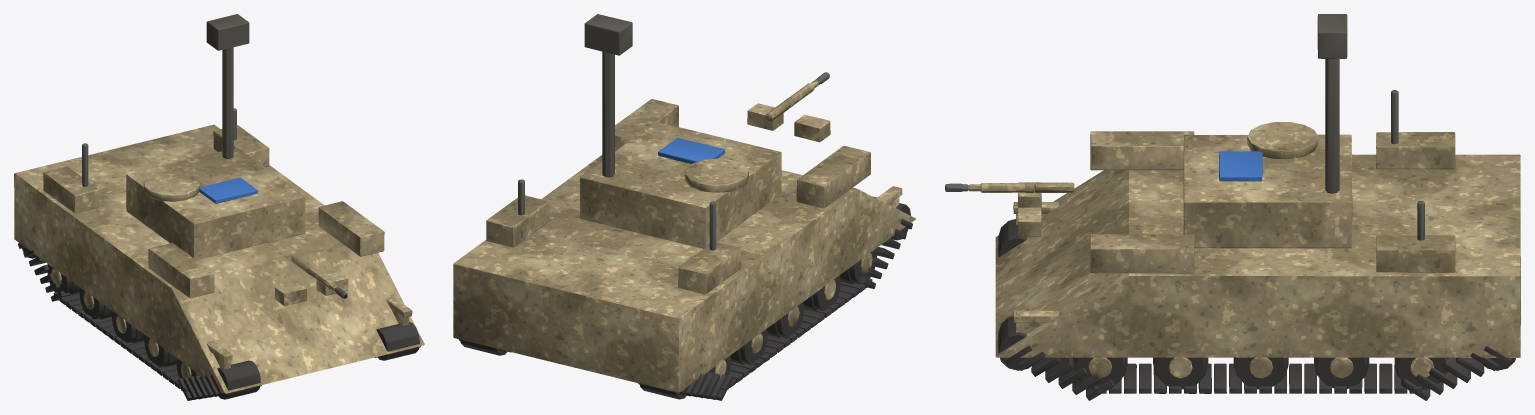
The model's file is rec_e4_us_recon_LOD1.glb.
The picture shows the model from 3 angles, left to right: view 1: azimuth 30°, elevation 25°; view 2: azimuth 150°, elevation 25°; view 3: azimuth 270°, elevation 25°; orthographic projection. The views are drawn at different scales.
Visible parts, largest first — view 1: rec_e4_us_recon_LOD1_body, rec_e4_us_recon_LOD1_track, rec_e4_us_recon_LOD1_deck, rec_e4_us_recon_LOD1_team, rec_e4_us_recon_LOD1_gun; view 2: rec_e4_us_recon_LOD1_body, rec_e4_us_recon_LOD1_track, rec_e4_us_recon_LOD1_deck, rec_e4_us_recon_LOD1_team, rec_e4_us_recon_LOD1_gun; view 3: rec_e4_us_recon_LOD1_body, rec_e4_us_recon_LOD1_track, rec_e4_us_recon_LOD1_deck, rec_e4_us_recon_LOD1_team, rec_e4_us_recon_LOD1_gun.
Part boxes in pixels (x1,y1,x2,y2): rec_e4_us_recon_LOD1_body: [14, 124, 424, 393]; rec_e4_us_recon_LOD1_track: [18, 243, 420, 400]; rec_e4_us_recon_LOD1_deck: [206, 14, 249, 158]; rec_e4_us_recon_LOD1_team: [199, 177, 257, 203]; rec_e4_us_recon_LOD1_gun: [82, 108, 347, 298]; rec_e4_us_recon_LOD1_body: [453, 80, 915, 392]; rec_e4_us_recon_LOD1_track: [458, 196, 912, 400]; rec_e4_us_recon_LOD1_deck: [584, 14, 632, 177]; rec_e4_us_recon_LOD1_team: [658, 137, 724, 163]; rec_e4_us_recon_LOD1_gun: [518, 72, 829, 250]; rec_e4_us_recon_LOD1_body: [968, 122, 1520, 378]; rec_e4_us_recon_LOD1_track: [998, 219, 1515, 400]; rec_e4_us_recon_LOD1_deck: [1317, 14, 1347, 193]; rec_e4_us_recon_LOD1_team: [1219, 151, 1262, 181]; rec_e4_us_recon_LOD1_gun: [945, 90, 1424, 240].
Bounding box in the file's own units: 2.9 × 3.79 × 5.8.
6 materials, 1 textured.
